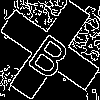B: (25, 25, 79, 82)
